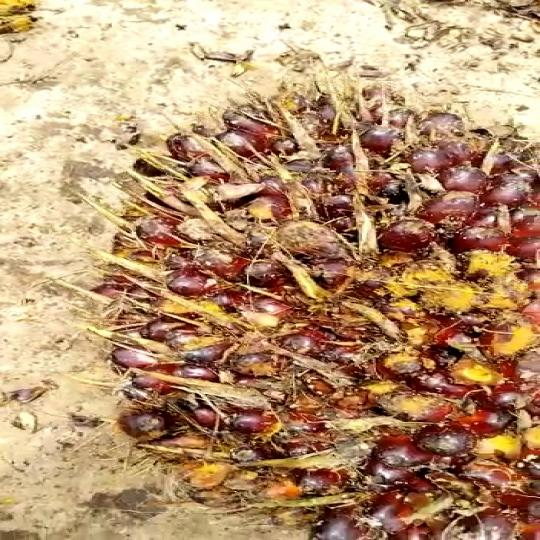masak: (96, 80, 540, 540)
